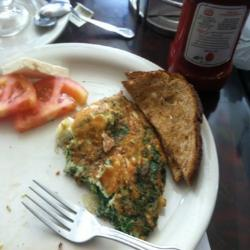omelette: (56, 93, 176, 239)
